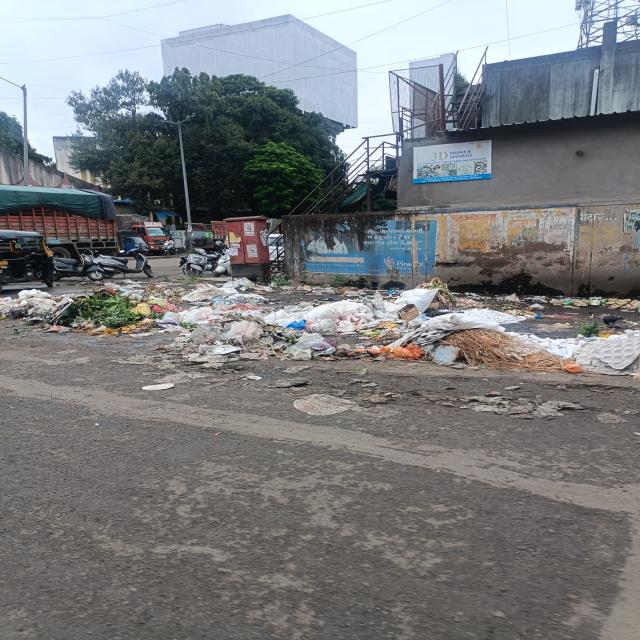garbage: (270, 284, 640, 379), (1, 278, 269, 334), (155, 334, 276, 374)
